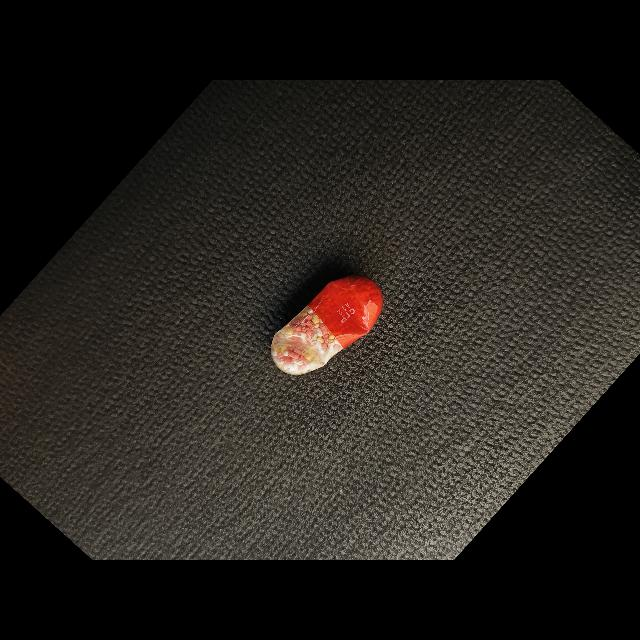Defective Capsule: (271, 276, 383, 375)
